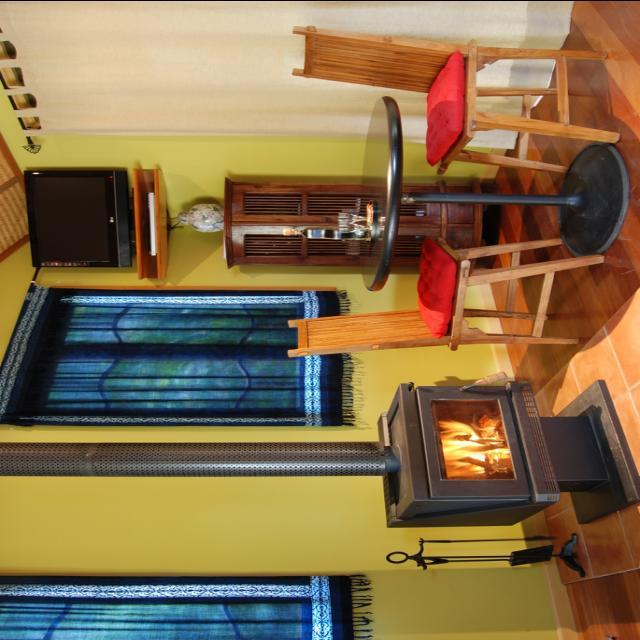Fire: (372, 383, 636, 528)
